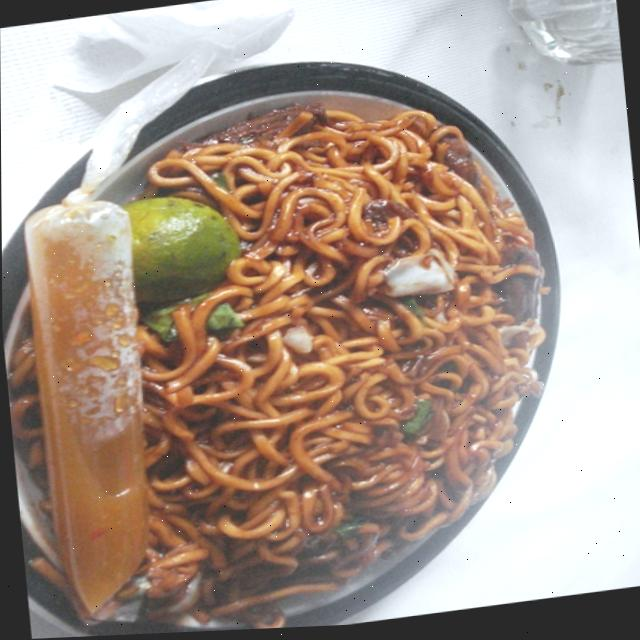面条主食: (0, 42, 602, 640)
